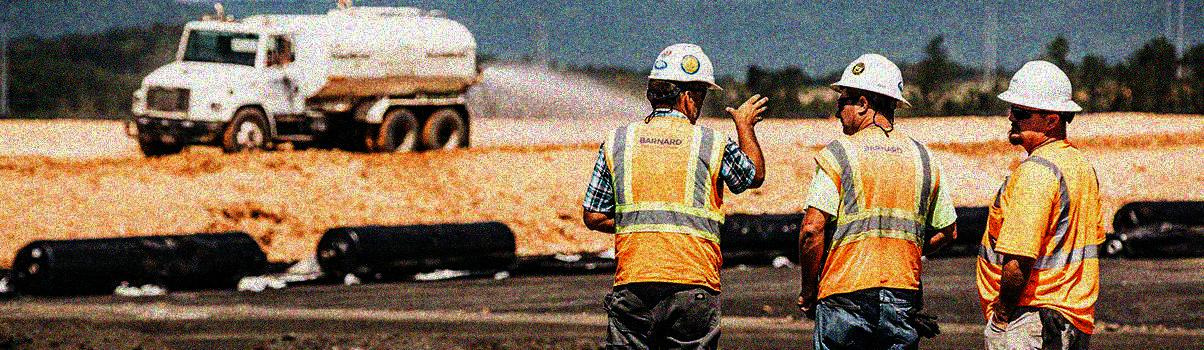helmet: (994, 57, 1083, 147), (826, 52, 914, 134), (644, 40, 726, 123)
